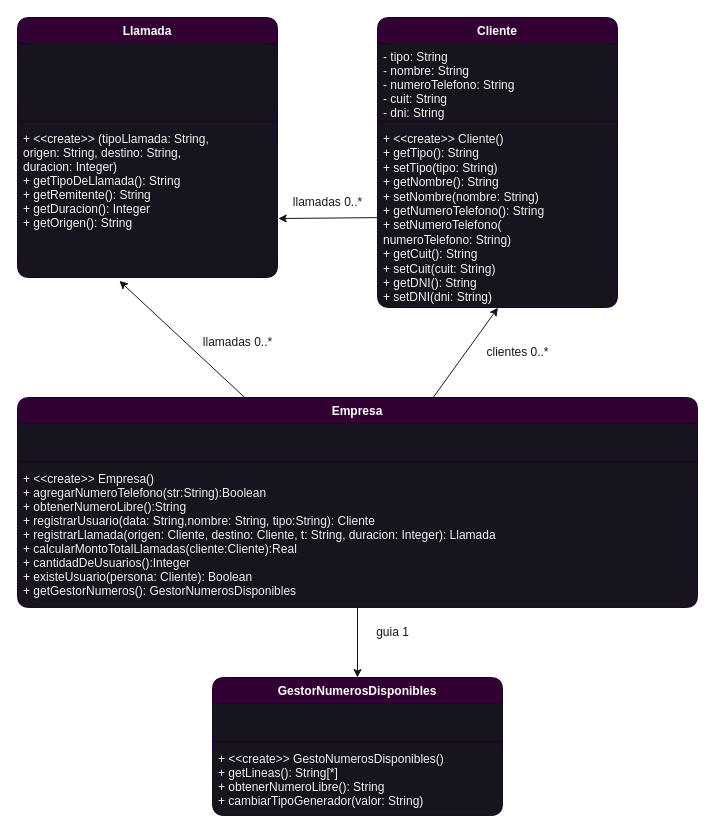
The diagram is 715 pixels wide and 836 high, and some of its shapes have lost their labels. Here are the shapes that lost their labels. From the top down, the centre of each, then its label:
pixel 147 80: - tipoDeLlamada: String - origen: String - destino: String - duracion: Integer
pixel 357 440: + descuentoJur: Real + descuentoFis: Real
pixel 357 720: - tipoGenerador: String - lineas : String [*]
